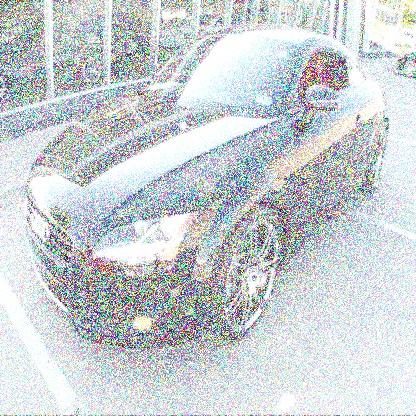Vehicle: (21, 18, 393, 352)
